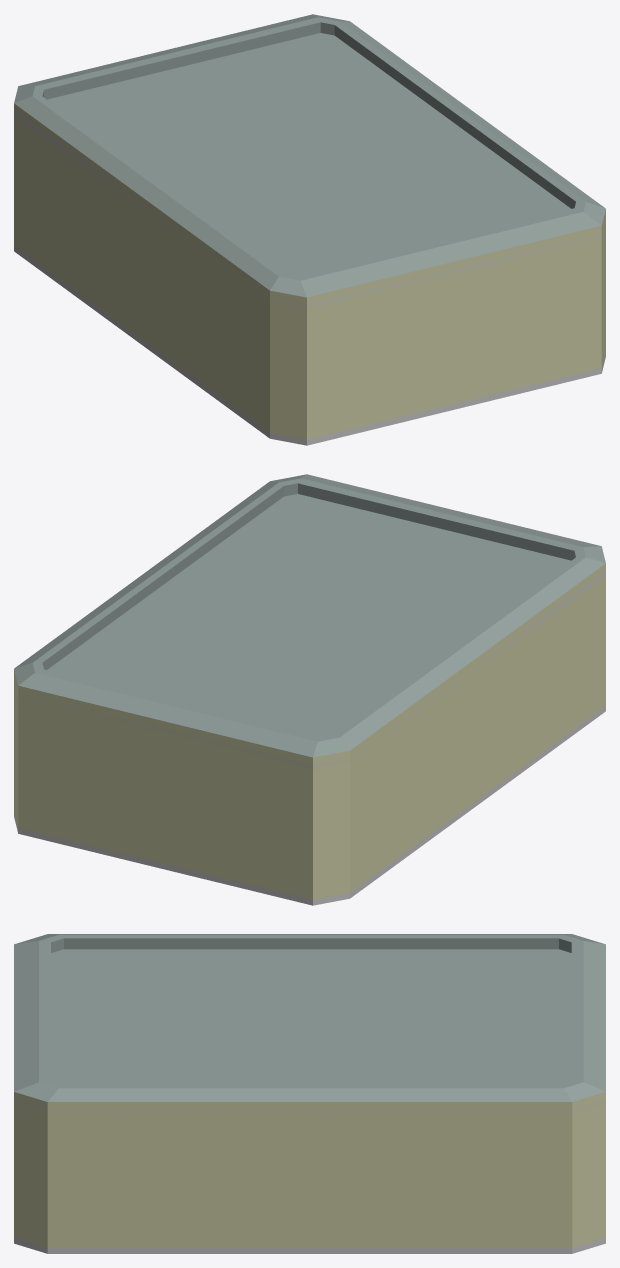
File: scenario.gltf
The picture shows the model from 3 angles, top to bottom: view 1: azimuth 30°, elevation 25°; view 2: azimuth 150°, elevation 25°; view 3: azimuth 270°, elevation 25°; orthographic projection. The views are drawn at different scales.
Parts seen in each view (by area): view 1: escenario, bordes; view 2: escenario, bordes; view 3: escenario, bordes.
Part boxes in pixels (left/top/right/bottom): escenario: left=14, top=14, right=605, bottom=439; bordes: left=14, top=110, right=605, bottom=445; escenario: left=14, top=474, right=605, bottom=899; bordes: left=14, top=570, right=605, bottom=905; escenario: left=14, top=934, right=605, bottom=1247; bordes: left=14, top=1099, right=605, bottom=1253.
Bounding box in the file's own units: 17.37 × 7.63 × 25.86.
